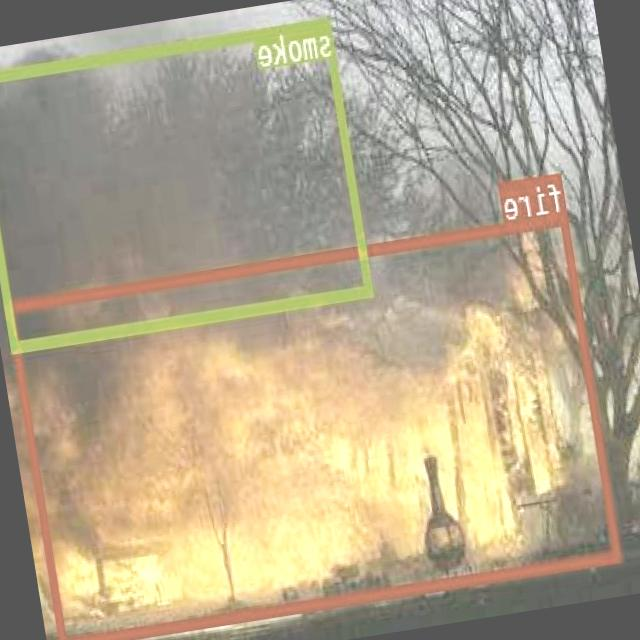fire: (6, 212, 623, 640)
smoke: (0, 15, 375, 351)
